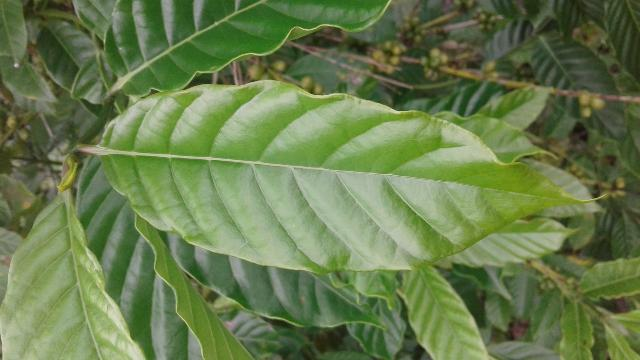healthy: (100, 79, 600, 271)
